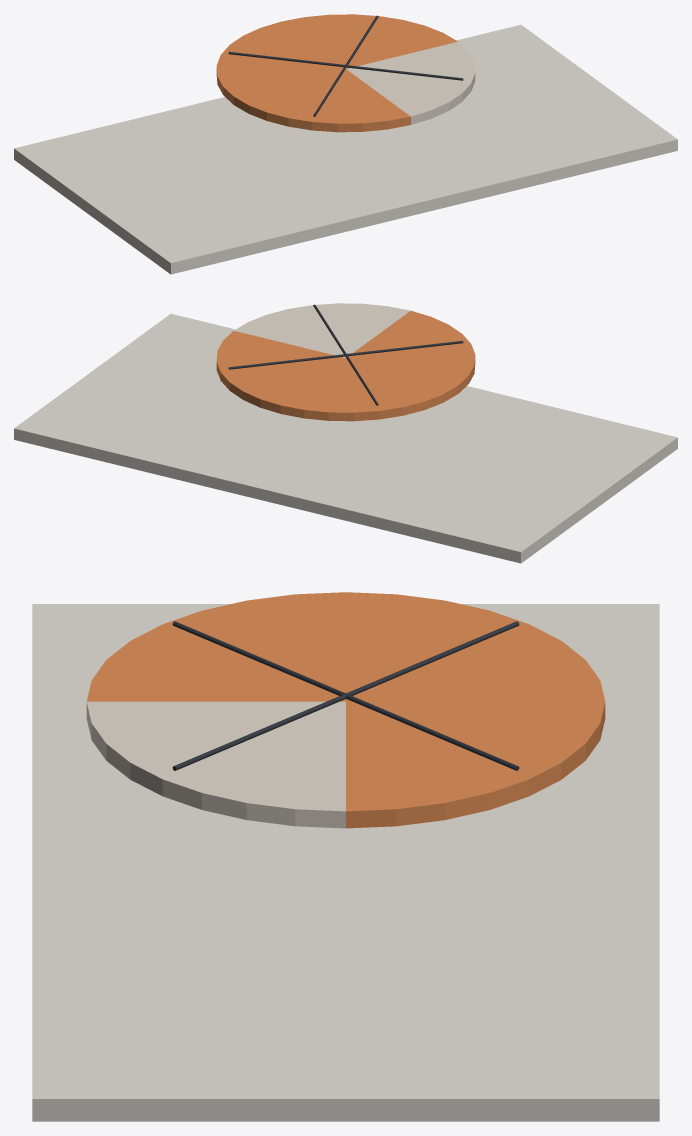
The model's file is math-fractions-fraction.glb.
The picture shows the model from 3 angles, top to bottom: view 1: azimuth 30°, elevation 25°; view 2: azimuth 150°, elevation 25°; view 3: azimuth 270°, elevation 25°; orthographic projection. The views are drawn at different scales.
Visible parts, largest first — view 1: manipulative-base, fraction-three-fourths-slice-3, fraction-three-fourths-slice-4, fraction-three-fourths-slice-2, fraction-three-fourths-slice-1; view 2: manipulative-base, fraction-three-fourths-slice-2, fraction-three-fourths-slice-1, fraction-three-fourths-slice-3, fraction-three-fourths-slice-4; view 3: manipulative-base, fraction-three-fourths-slice-1, fraction-three-fourths-slice-4, fraction-three-fourths-slice-2, fraction-three-fourths-slice-3, fraction-three-fourths-divider-1, fraction-three-fourths-divider-4, fraction-three-fourths-divider-2, fraction-three-fourths-divider-3.
Part boxes in pixels (<box>): manipulative-base: <box>14,24,677,274</box>; fraction-three-fourths-slice-3: <box>233,69,410,132</box>; fraction-three-fourths-slice-4: <box>346,42,475,124</box>; fraction-three-fourths-slice-2: <box>216,21,343,104</box>; fraction-three-fourths-slice-1: <box>281,14,457,68</box>; manipulative-base: <box>14,313,677,563</box>; fraction-three-fourths-slice-2: <box>281,358,458,421</box>; fraction-three-fourths-slice-1: <box>216,331,345,413</box>; fraction-three-fourths-slice-3: <box>348,310,475,393</box>; fraction-three-fourths-slice-4: <box>234,303,410,357</box>; manipulative-base: <box>32,604,659,1121</box>; fraction-three-fourths-slice-1: <box>346,701,605,828</box>; fraction-three-fourths-slice-4: <box>86,701,345,828</box>; fraction-three-fourths-slice-2: <box>346,592,605,701</box>; fraction-three-fourths-slice-3: <box>86,592,345,701</box>; fraction-three-fourths-divider-1: <box>172,694,345,770</box>; fraction-three-fourths-divider-4: <box>346,694,519,770</box>; fraction-three-fourths-divider-2: <box>172,621,345,695</box>; fraction-three-fourths-divider-3: <box>346,621,519,695</box>.
Size of what is drawn, in the model's own units: 2.8 by 0.476 by 1.5.
